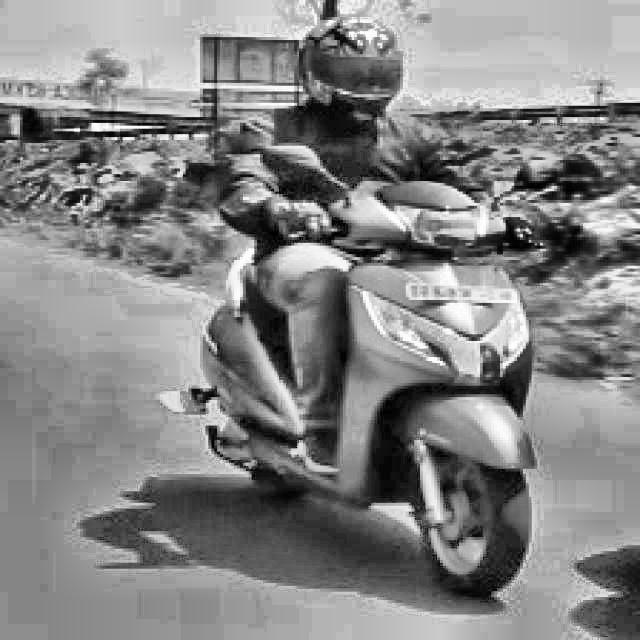motorcycle: (170, 132, 577, 607)
